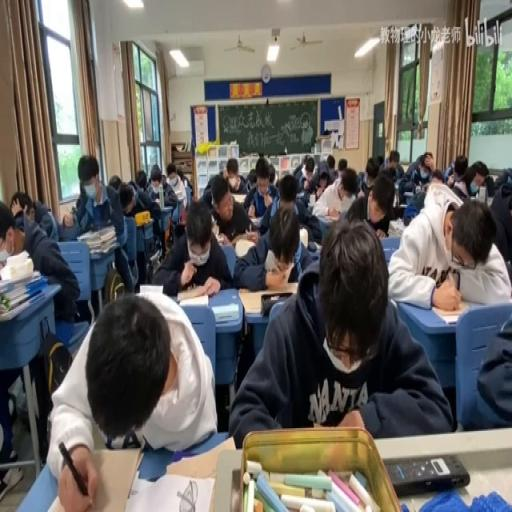calculator: (44, 444, 142, 509), (126, 469, 214, 512), (162, 434, 235, 480), (239, 283, 298, 313), (0, 291, 42, 320), (0, 268, 41, 292), (430, 304, 464, 324), (379, 235, 400, 260), (212, 302, 238, 322), (234, 236, 256, 258), (177, 292, 209, 307), (138, 283, 164, 294), (387, 218, 404, 234), (296, 186, 312, 202), (318, 212, 340, 222), (211, 219, 221, 240), (148, 249, 160, 266), (230, 192, 248, 202), (310, 240, 322, 252), (249, 215, 262, 226), (0, 249, 8, 266), (306, 199, 314, 213), (486, 194, 493, 208), (403, 191, 415, 199)
paper: (227, 211, 445, 445), (0, 193, 81, 468), (387, 182, 509, 309), (61, 155, 131, 300), (154, 196, 230, 294), (471, 304, 512, 428), (119, 179, 161, 283), (352, 171, 397, 240), (290, 168, 326, 242), (8, 188, 55, 243), (242, 158, 277, 229), (399, 149, 434, 202), (452, 160, 486, 200), (426, 180, 463, 214), (218, 155, 246, 193), (381, 148, 404, 181), (148, 162, 166, 201), (278, 172, 298, 205), (58, 212, 80, 240), (340, 169, 358, 199), (493, 169, 512, 192), (202, 175, 218, 199), (363, 156, 379, 180), (291, 158, 306, 180), (134, 168, 148, 189), (316, 161, 330, 182), (176, 165, 188, 189), (482, 175, 494, 196), (246, 166, 258, 186), (444, 160, 456, 180), (108, 174, 122, 190), (356, 171, 366, 192), (267, 164, 276, 186), (13, 212, 24, 229), (430, 169, 444, 182), (411, 172, 421, 189), (326, 154, 334, 172), (338, 158, 347, 173), (166, 168, 175, 182), (422, 156, 430, 170), (377, 155, 384, 165)
person: (386, 452, 470, 495), (394, 202, 406, 219), (451, 267, 459, 289)
